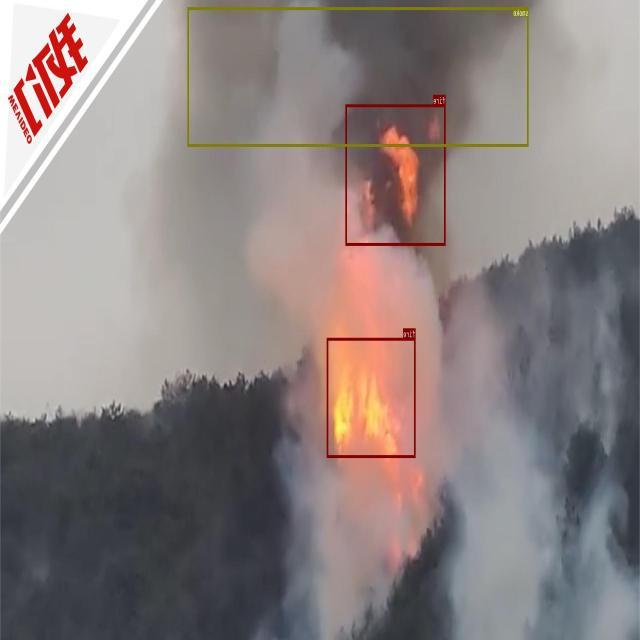fire: (346, 104, 446, 245), (327, 338, 416, 457)
smoke: (188, 7, 529, 146)
